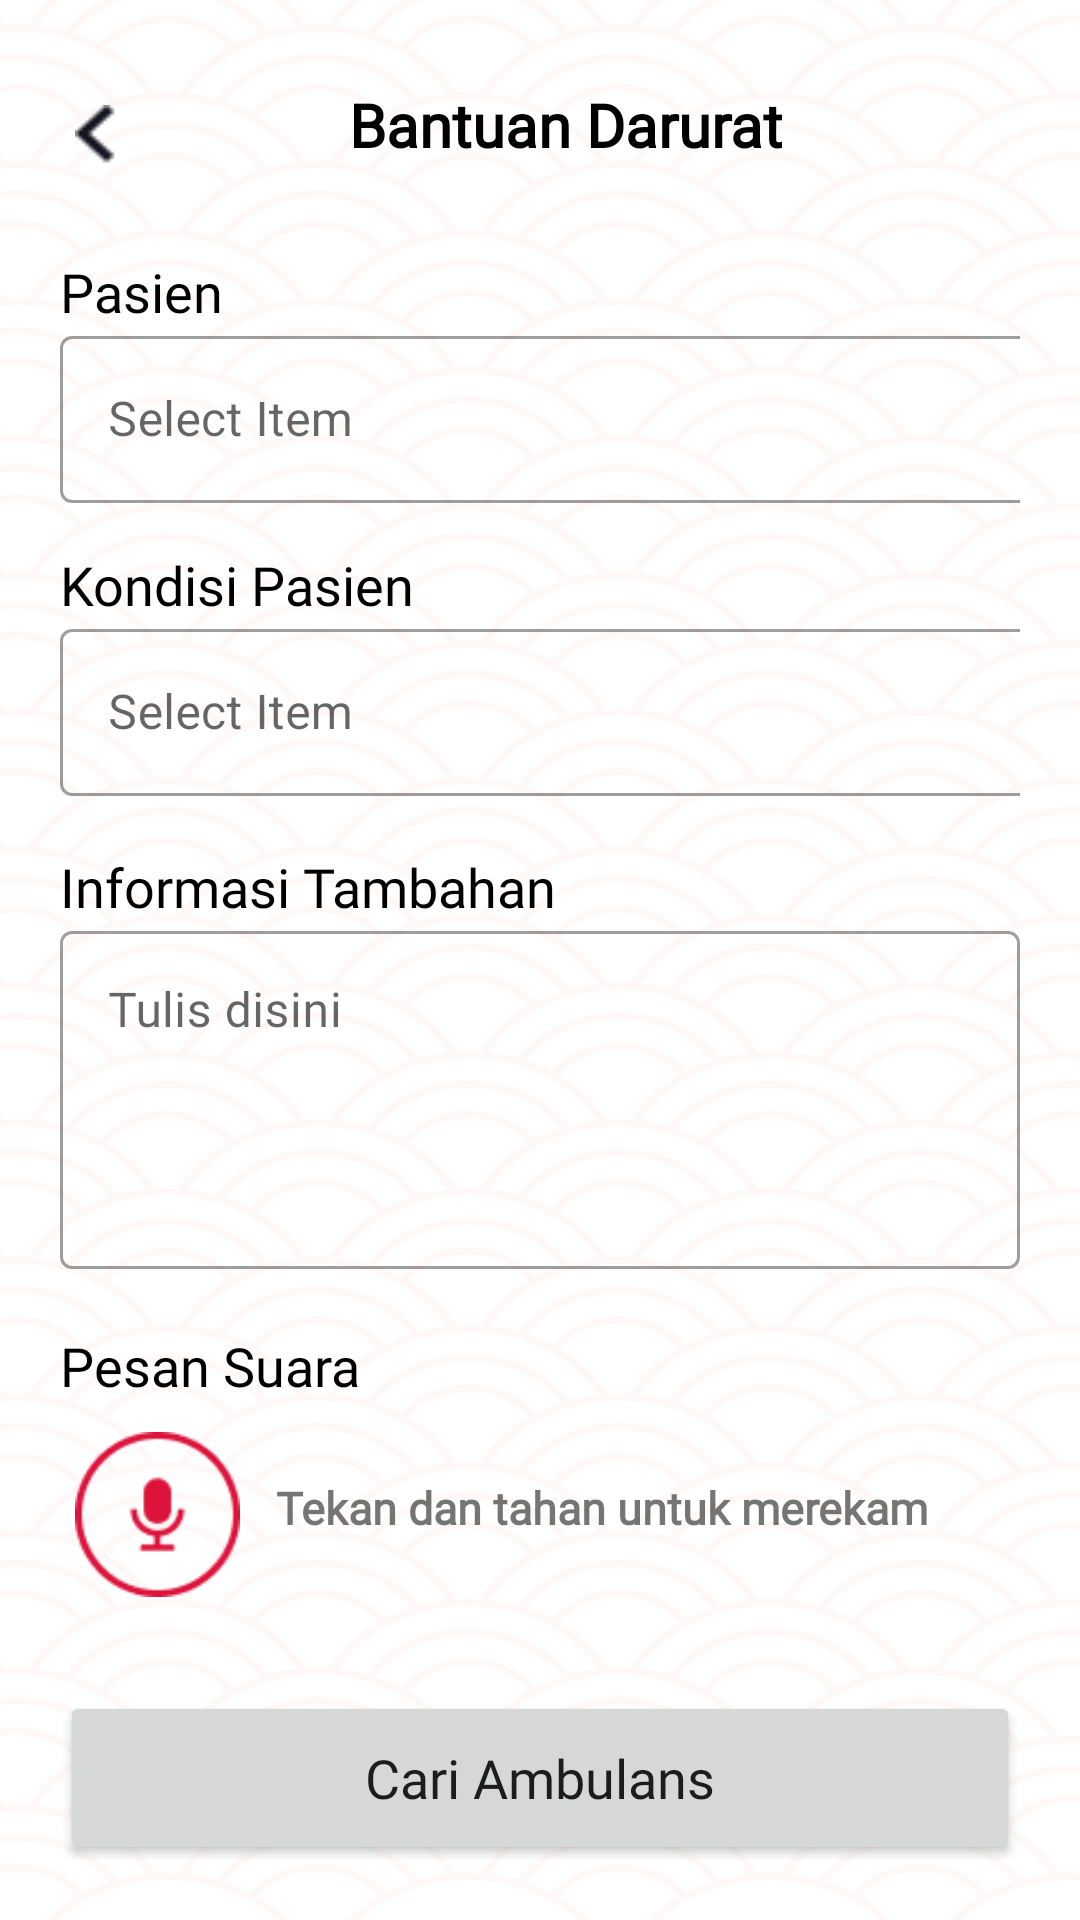

Locate icon controls on the screen. Image size 1080x1920, boxes as Rect(x1, y1, x2, y2).
back: Rect(75, 105, 115, 163)
